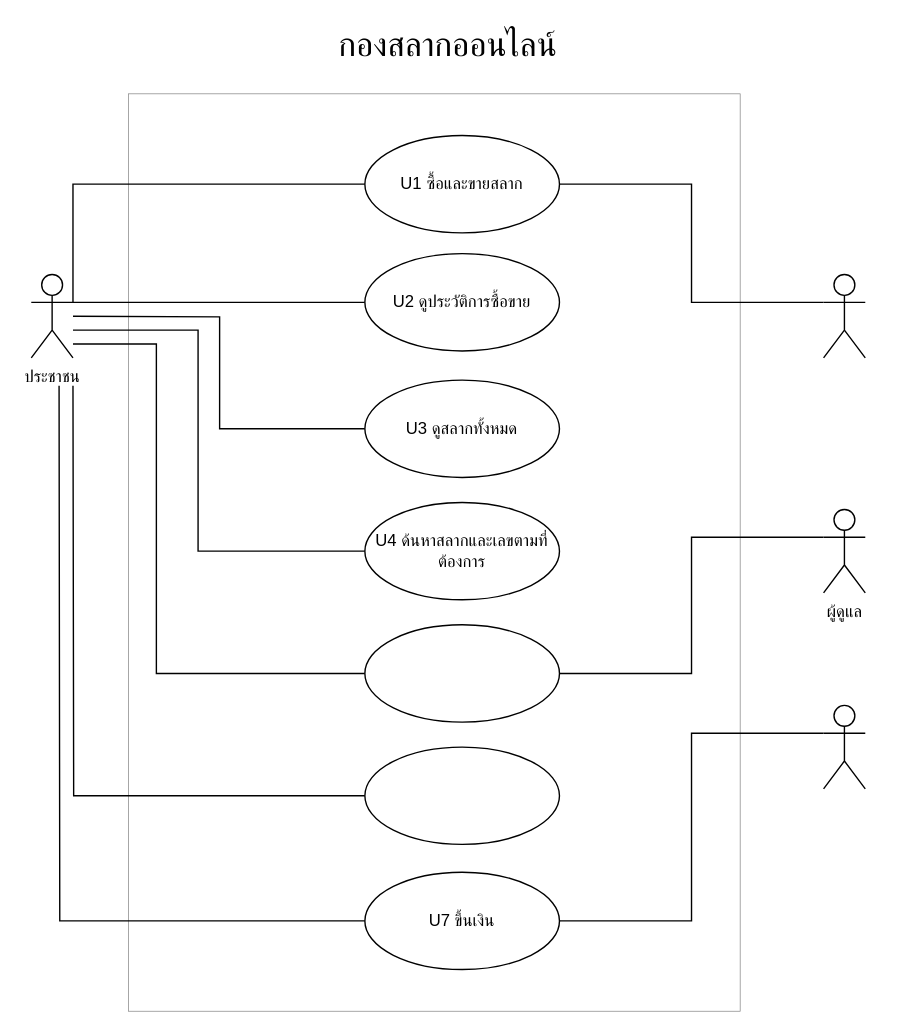
The diagram is 897 pixels wide and 1036 high, and some of its shapes have lost their labels. The box of each missing label's shape, as (x1, y1, x2, y2) in pixels:
U5 ลงทะเบียนและเข้าสู่ระบบ: (363, 623, 559, 722)
U6 แจ้งเตื่อนการถูกรางวัล: (363, 746, 559, 844)
กองสลาก: (822, 273, 865, 358)
ธนาคาร: (822, 704, 865, 789)
